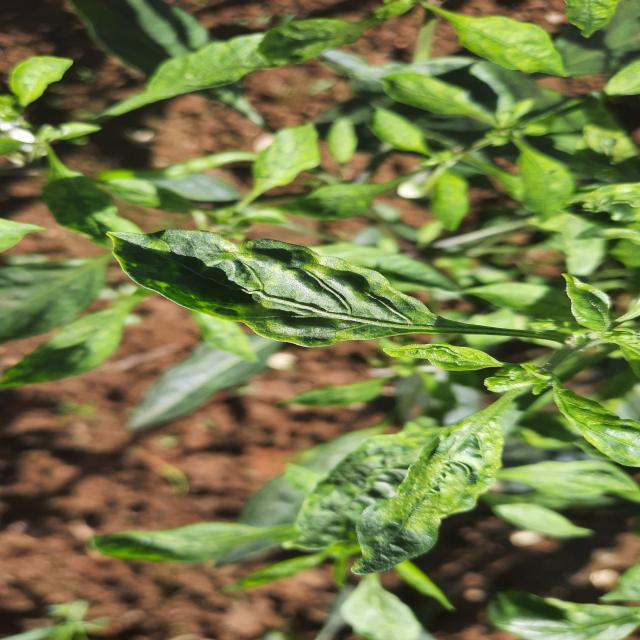thrips: (80, 226, 418, 356), (344, 416, 520, 584)
